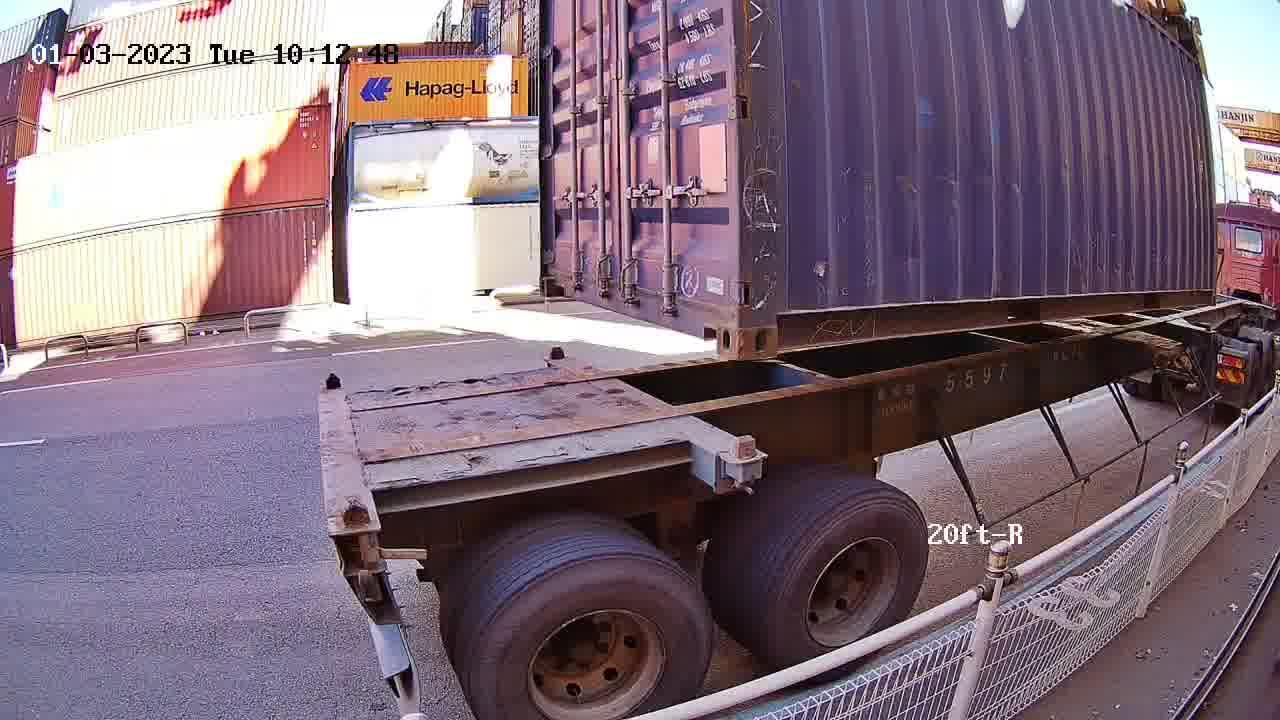Chassis: (542, 353, 767, 470)
Cone: (723, 432, 764, 495), (540, 344, 568, 364)
Hole_L: (739, 277, 819, 359), (538, 253, 579, 304)
Hole_R: (688, 275, 740, 358)
Tire: (471, 553, 714, 719), (771, 491, 929, 680)
